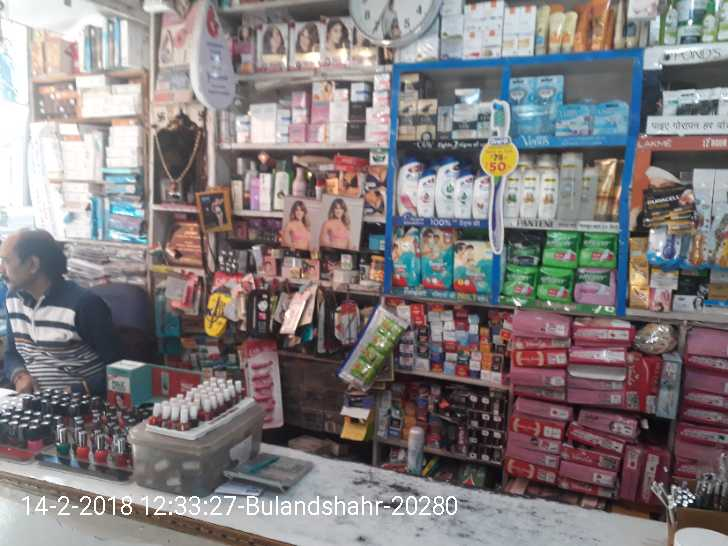venus: (536, 75, 560, 132), (511, 80, 536, 132), (593, 101, 630, 133), (560, 108, 593, 133)
